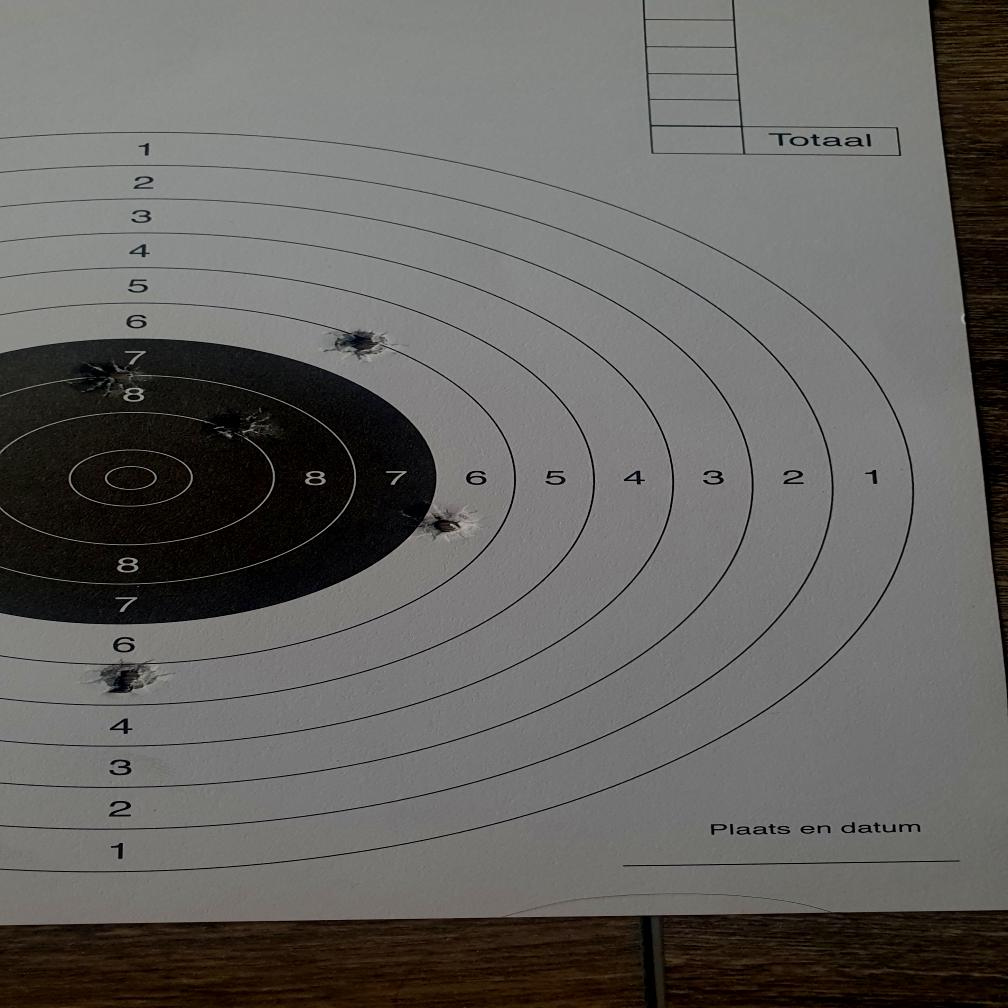6: (82, 657, 172, 695), (320, 328, 407, 362)
7: (398, 504, 482, 545)
8: (67, 358, 153, 398)
9: (202, 405, 282, 442)
Target: (0, 126, 1008, 873)
black_contour: (0, 337, 440, 624)
